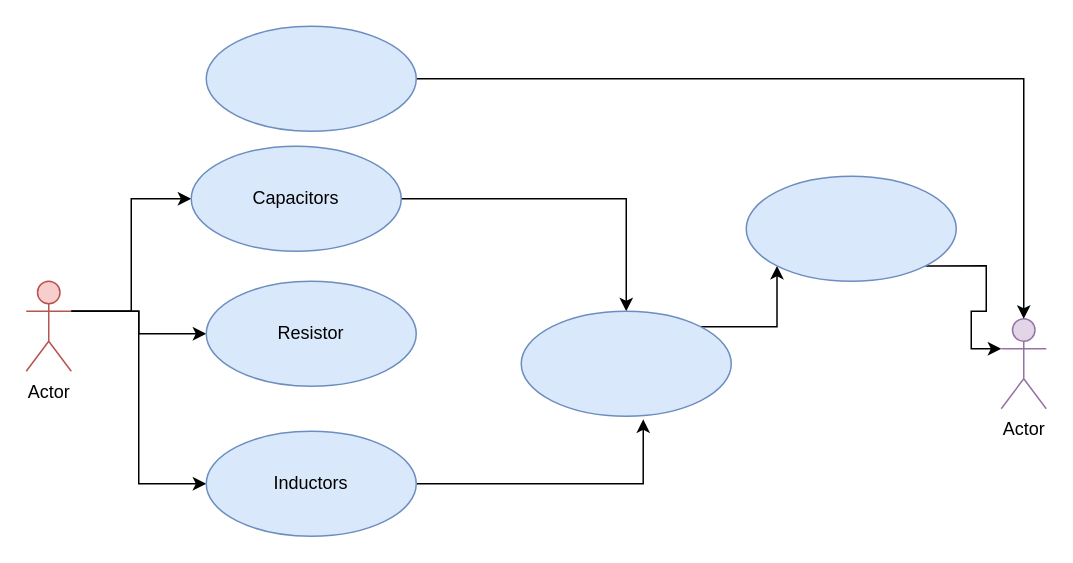
This 1073x563 diagram has some shape labels left out. The box of each missing label's shape, as (x1, y1, x2, y2) in pixels:
Parallel Equivalent: (520, 310, 731, 416)
Result: (745, 175, 956, 281)
View Menu: (205, 25, 416, 131)
